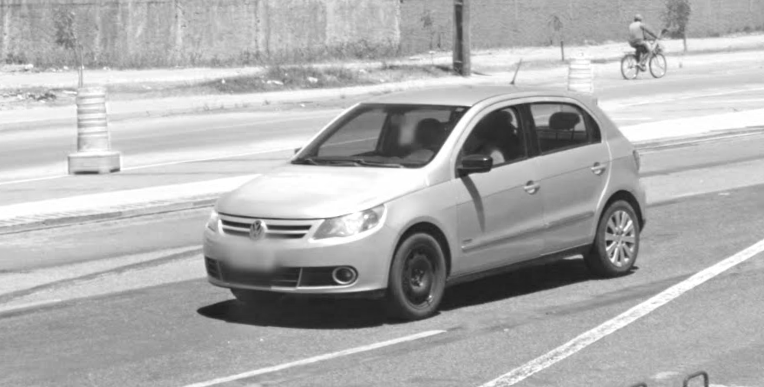car: (197, 57, 650, 325)
